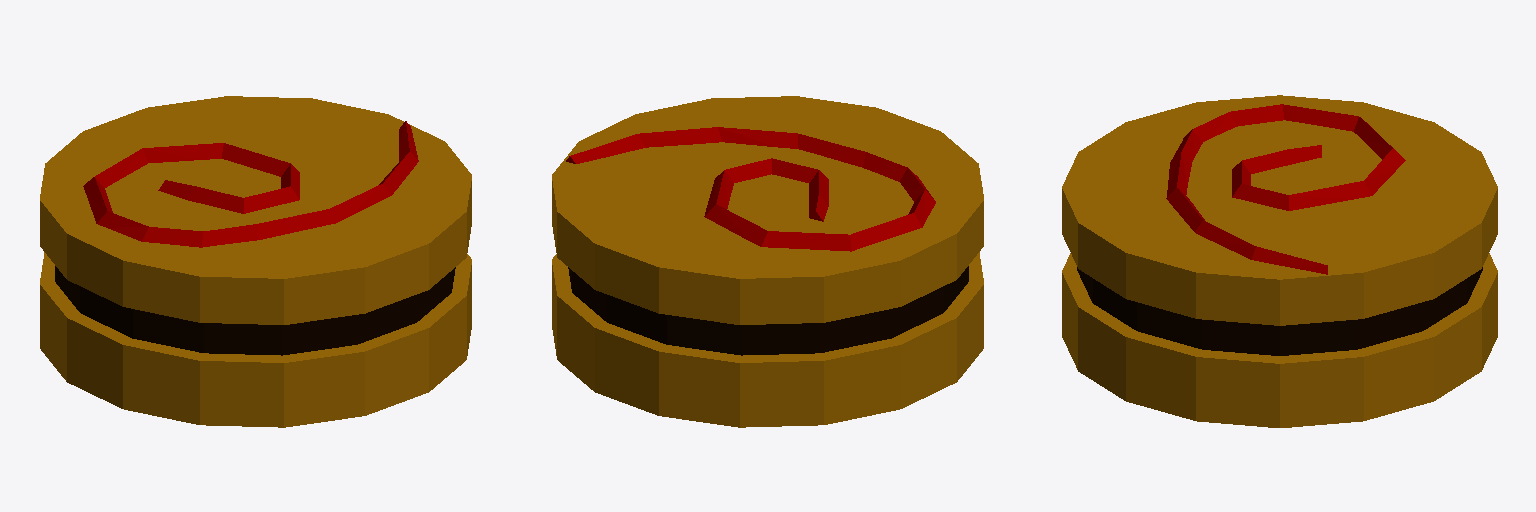
Rendered from burger2.obj.
3 views of the same model, side by side, from view 1: azimuth 30°, elevation 25°; view 2: azimuth 150°, elevation 25°; view 3: azimuth 270°, elevation 25° (orthographic).
Visible parts, largest first — view 1: Cylinder.001; view 2: Cylinder.001; view 3: Cylinder.001.
Part boxes in pixels (x1,y1,x2,y2): Cylinder.001: (40,96,471,427); Cylinder.001: (552,96,983,427); Cylinder.001: (1062,95,1497,427).
Size of the model in its own units: 2 by 0.8113 by 2.